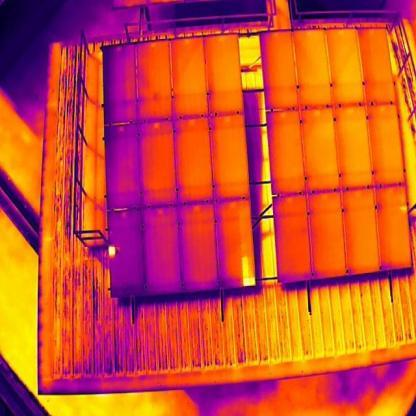anomaly: (240, 255, 260, 287), (104, 243, 120, 262)
